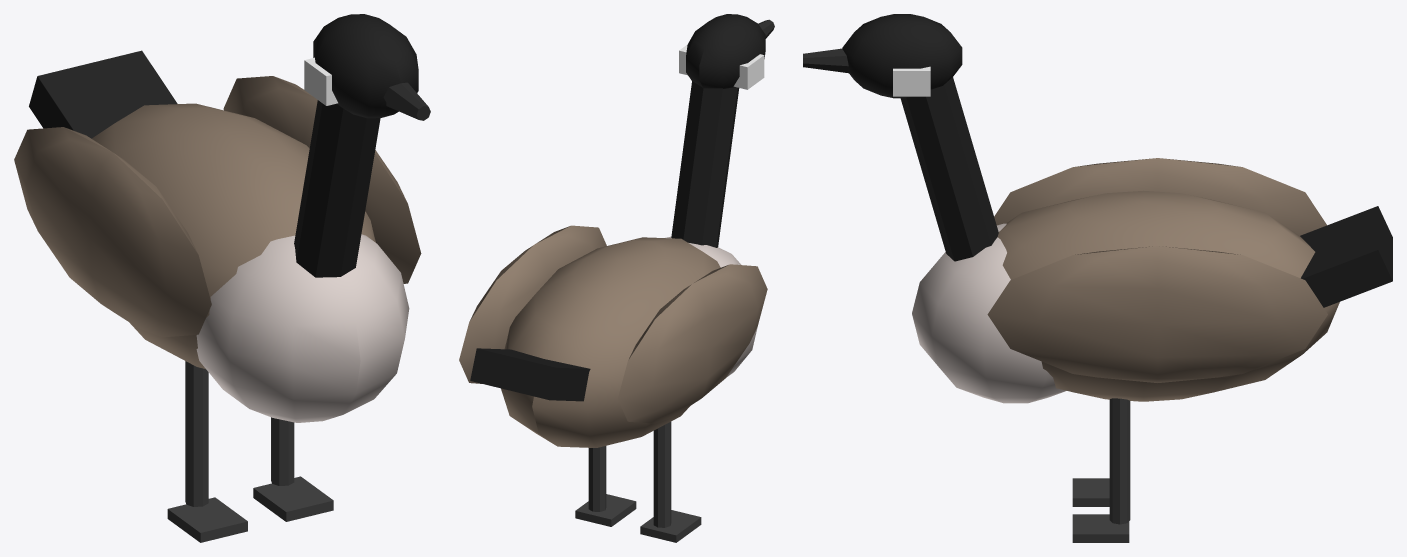
Rendered from town_goose.glb.
The picture shows the model from 3 angles, left to right: view 1: azimuth 30°, elevation 25°; view 2: azimuth 150°, elevation 25°; view 3: azimuth 270°, elevation 25°; orthographic projection. The views are drawn at different scales.
Visible parts, largest first — view 1: Body, Wing_R.001, Neck, Wing_L.001, Leg_R.001, Leg_L.001; view 2: Body, Wing_R.001, Neck, Wing_L.001, Leg_R.001, Leg_L.001; view 3: Body, Wing_L.001, Neck, Wing_R.001, Leg_L.001, Leg_R.001.
Part boxes in pixels (box(x1,y1,x2,y2)): Body: box(29, 50, 409, 422); Wing_R.001: box(14, 127, 211, 337); Neck: box(294, 14, 430, 277); Wing_L.001: box(223, 76, 421, 283); Leg_R.001: box(167, 361, 247, 542); Leg_L.001: box(253, 417, 333, 521); Body: box(470, 236, 757, 447); Wing_R.001: box(618, 264, 767, 423); Neck: box(671, 14, 774, 247); Wing_L.001: box(459, 225, 606, 383); Leg_R.001: box(640, 421, 701, 542); Leg_L.001: box(575, 446, 636, 526); Body: box(912, 190, 1392, 403); Wing_L.001: box(987, 246, 1327, 382); Neck: box(803, 14, 998, 261); Wing_R.001: box(994, 158, 1326, 235); Leg_L.001: box(1072, 398, 1130, 542); Leg_R.001: box(1072, 478, 1109, 506).
Bounding box in the file's own units: 0.54 × 1.16 × 1.25.
